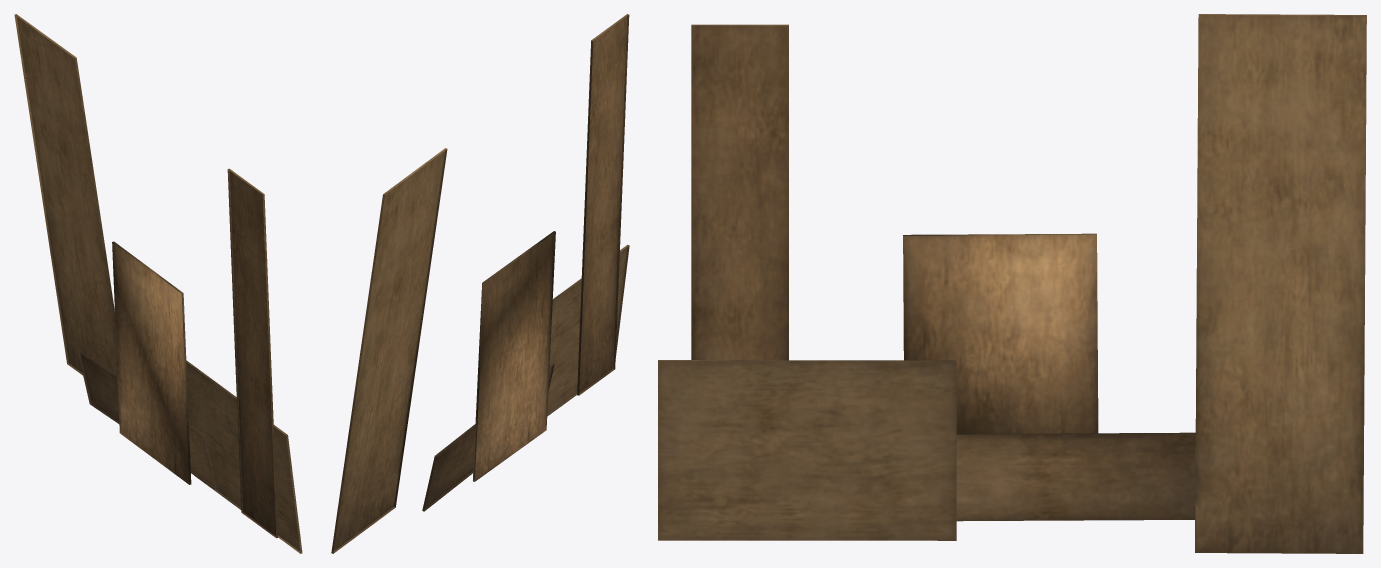
The model's file is salvaged_boards.glb.
3 renders of one model, left to right at view 1: azimuth 30°, elevation 25°; view 2: azimuth 150°, elevation 25°; view 3: azimuth 270°, elevation 25°, orthographic. The views are drawn at different scales.
Parts seen in each view (by area): view 1: salvaged_boards; view 2: salvaged_boards; view 3: salvaged_boards.
Boxes of the visible parts, x1,y1,x2,y2 form: salvaged_boards: (14,14,302,553); salvaged_boards: (331,14,629,553); salvaged_boards: (658,14,1366,553).
Bounding box in the file's own units: 0.3761 × 2.44 × 3.1.
Materials: 1 (1 with a texture image).
